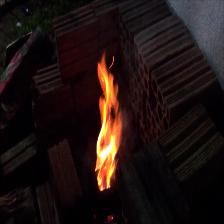fire: (98, 56, 121, 187)
